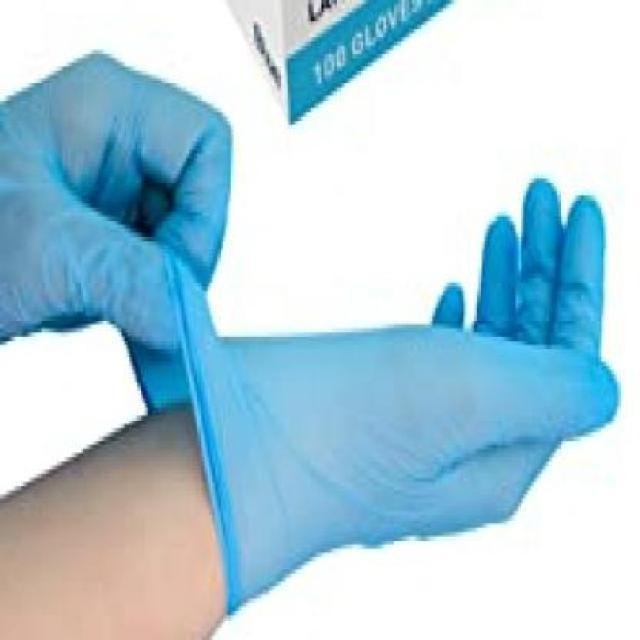glove_hand: (172, 182, 630, 602), (0, 54, 251, 440)
